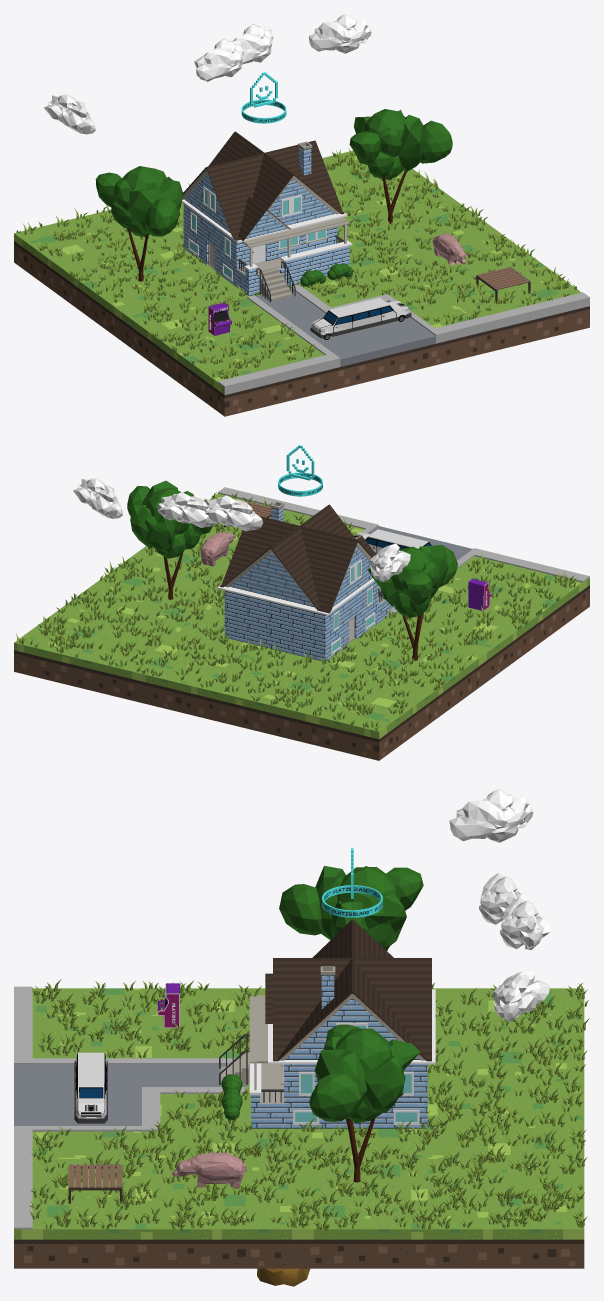
3 renders of one model, top to bottom at view 1: azimuth 30°, elevation 25°; view 2: azimuth 150°, elevation 25°; view 3: azimuth 270°, elevation 25°, orthographic. The views are drawn at different scales.
Parts seen in each view (by area): view 1: Cube.006, Cube.547, Circle.012_Grass_0.192, Cube.007, tree, tree.001, VEHICLES_LIMOUSINE, TYPE_PREMIUM, Cube.009, ANIMAL_HIPOPOTAMO, OBJRANDOM_ARCADE; view 2: Cube.006, Cube.547, Circle.012_Grass_0.192, Cube.007, tree.001, tree, TYPE_PREMIUM, VEHICLES_LIMOUSINE, ANIMAL_HIPOPOTAMO, OBJRANDOM_ARCADE; view 3: Cube.006, Circle.012_Grass_0.192, Cube.547, tree, Cube.007, tree.001, VEHICLES_LIMOUSINE, ANIMAL_HIPOPOTAMO, Cube.009, TYPE_PREMIUM, UNDERGROUND_T_REX_BONES, OBJRANDOM_ARCADE.
Part boxes in pixels (x1,y1,x2,y2): Cube.006: (14, 150, 589, 416); Cube.547: (181, 131, 352, 302); Circle.012_Grass_0.192: (16, 148, 576, 379); Cube.007: (44, 14, 371, 134); tree: (349, 109, 452, 224); tree.001: (95, 166, 182, 281); VEHICLES_LIMOUSINE: (310, 297, 411, 339); TYPE_PREMIUM: (241, 72, 286, 123); Cube.009: (476, 267, 530, 301); ANIMAL_HIPOPOTAMO: (432, 233, 467, 265); OBJRANDOM_ARCADE: (208, 302, 231, 335); Cube.006: (14, 487, 589, 760); Cube.547: (217, 501, 390, 661); Circle.012_Grass_0.192: (16, 492, 576, 730); Cube.007: (73, 478, 410, 582); tree.001: (367, 545, 457, 660); tree: (127, 480, 212, 599); TYPE_PREMIUM: (278, 445, 322, 496); VEHICLES_LIMOUSINE: (354, 529, 431, 553); ANIMAL_HIPOPOTAMO: (200, 532, 235, 566); OBJRANDOM_ARCADE: (468, 578, 491, 610); Cube.006: (14, 986, 584, 1268); Circle.012_Grass_0.192: (29, 979, 589, 1230); Cube.547: (219, 920, 435, 1128); tree: (309, 1024, 420, 1182); Cube.007: (449, 789, 550, 1021); tree.001: (279, 865, 423, 950); VEHICLES_LIMOUSINE: (74, 1052, 107, 1123); ANIMAL_HIPOPOTAMO: (172, 1152, 246, 1188); Cube.009: (68, 1164, 122, 1203); TYPE_PREMIUM: (322, 848, 382, 917); UNDERGROUND_T_REX_BONES: (257, 1268, 310, 1286); OBJRANDOM_ARCADE: (157, 983, 179, 1027).
Size of the model in its own units: 4071 by 2413 by 4040.
Materials: 42 (5 with a texture image).
